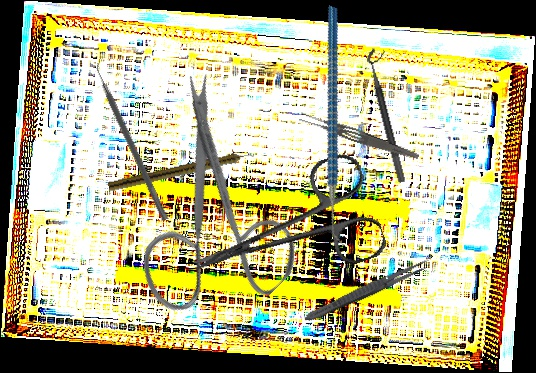Chopper: (256, 5, 421, 248)
Dressing Forceps: (301, 255, 433, 326), (297, 110, 422, 162)
Fixation Ring: (364, 45, 417, 184)
Handpiece: (107, 148, 256, 195)
Iris Scissors: (60, 65, 351, 355), (175, 149, 390, 314)
Spatula Surgical: (90, 60, 175, 222)
